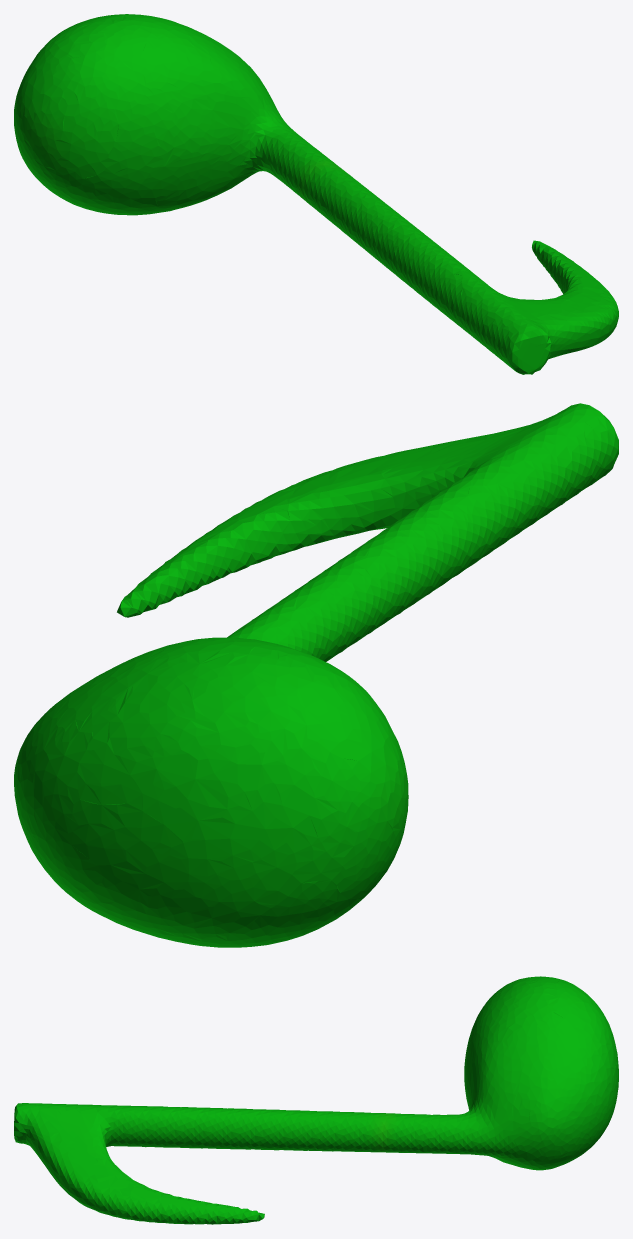
File: greennote.obj
The picture shows the model from 3 angles, top to bottom: view 1: azimuth 30°, elevation 25°; view 2: azimuth 150°, elevation 25°; view 3: azimuth 270°, elevation 25°; orthographic projection. The views are drawn at different scales.
Visible parts, largest first — view 1: Layer_1; view 2: Layer_1; view 3: Layer_1.
Part boxes in pixels (<box>): Layer_1: <box>14,14,618,374</box>; Layer_1: <box>14,403,618,947</box>; Layer_1: <box>14,976,618,1224</box>.
Size of the model in its own units: 0.1083 by 0.055 by 0.1964.
